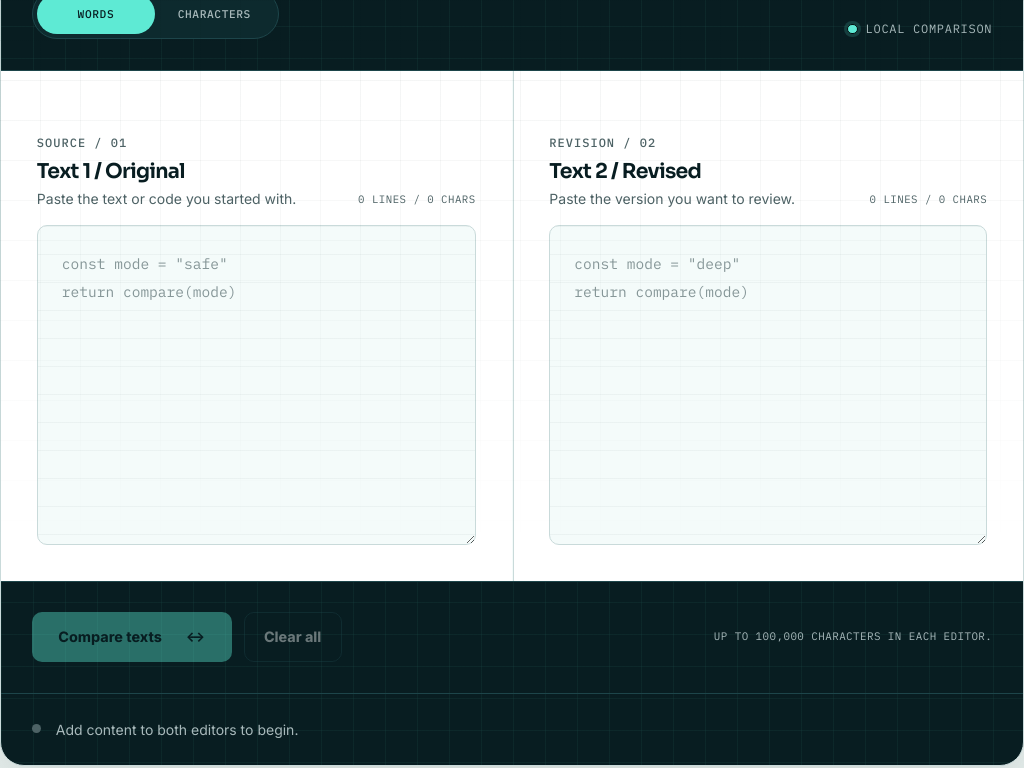
Test: TextComparisonPage › reports identical input without hiding it
(page scrolled)
In the text box labelled "Text 1 / Original": {"x": 256, "y": 385} [37, 225, 476, 545], type "same"
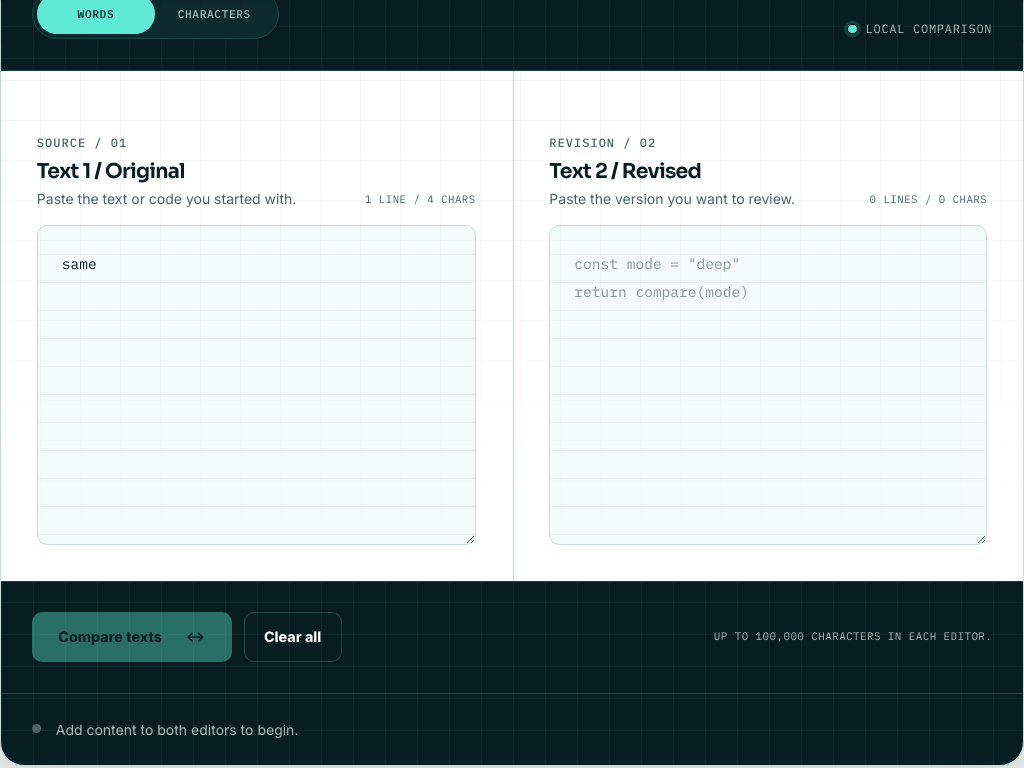
In the text box labelled "Text 2 / Revised": {"x": 768, "y": 385} [549, 225, 987, 545], type "same"
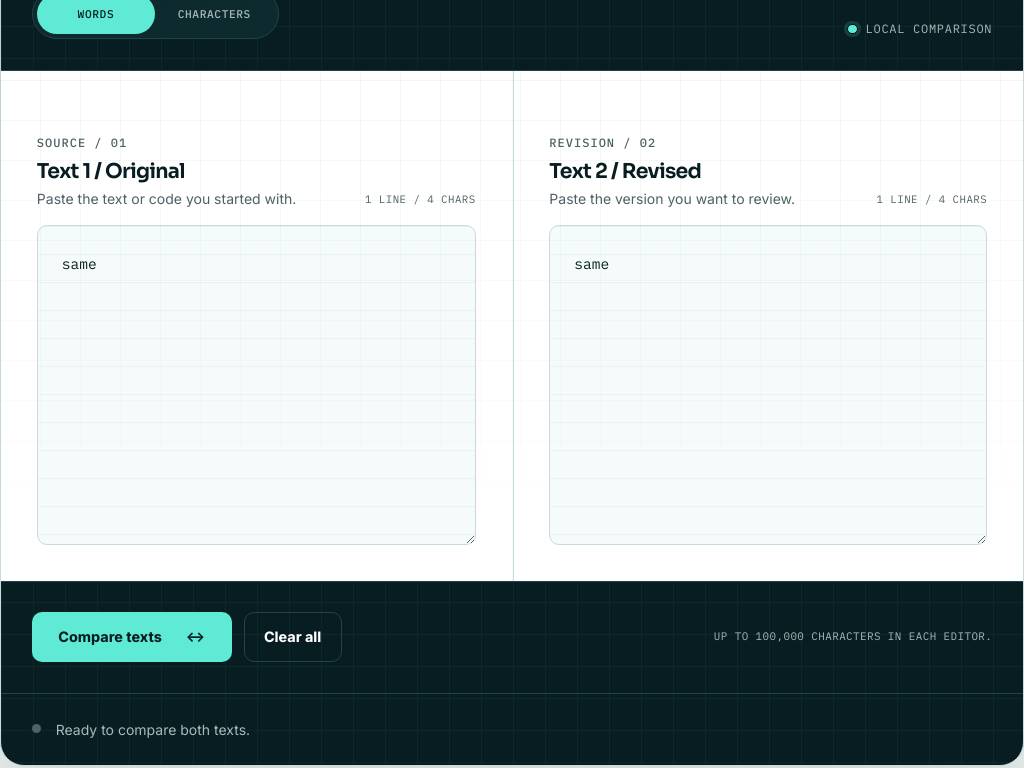
Click the button "Compare texts ↔": {"x": 132, "y": 637} [32, 612, 232, 662]
(page scrolled)
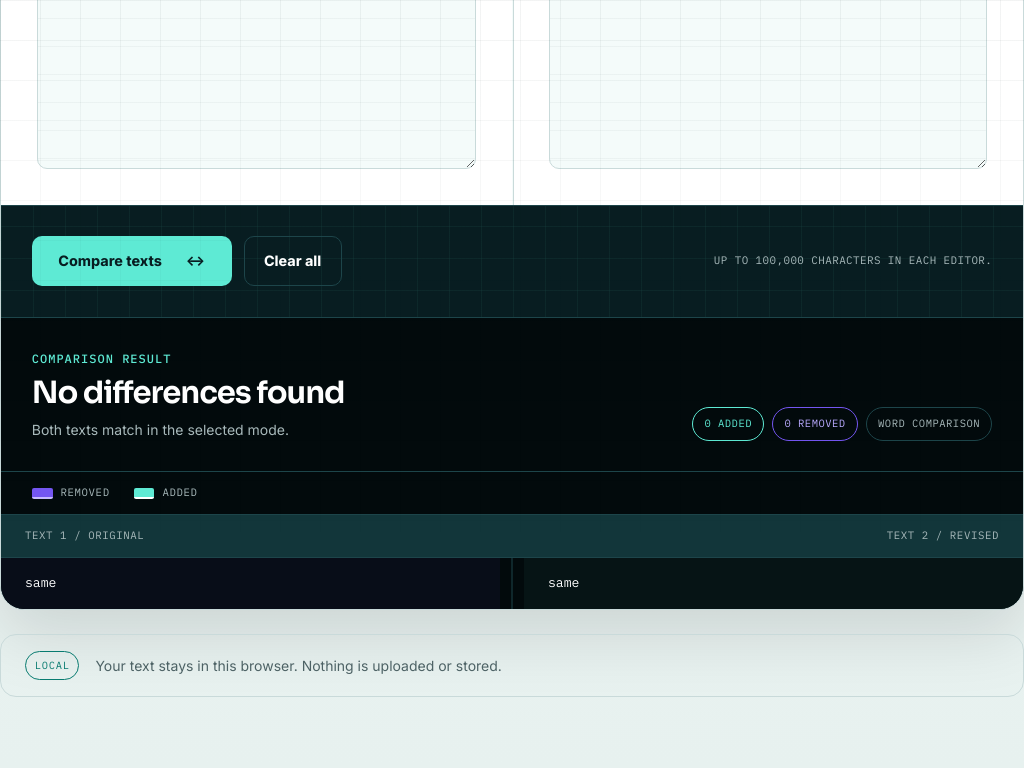
Now the heading "No differences found" is shown, box [32, 376, 345, 410]
Now the text "same" is shown 2 times, box [25, 574, 56, 591]; [548, 574, 580, 591]
